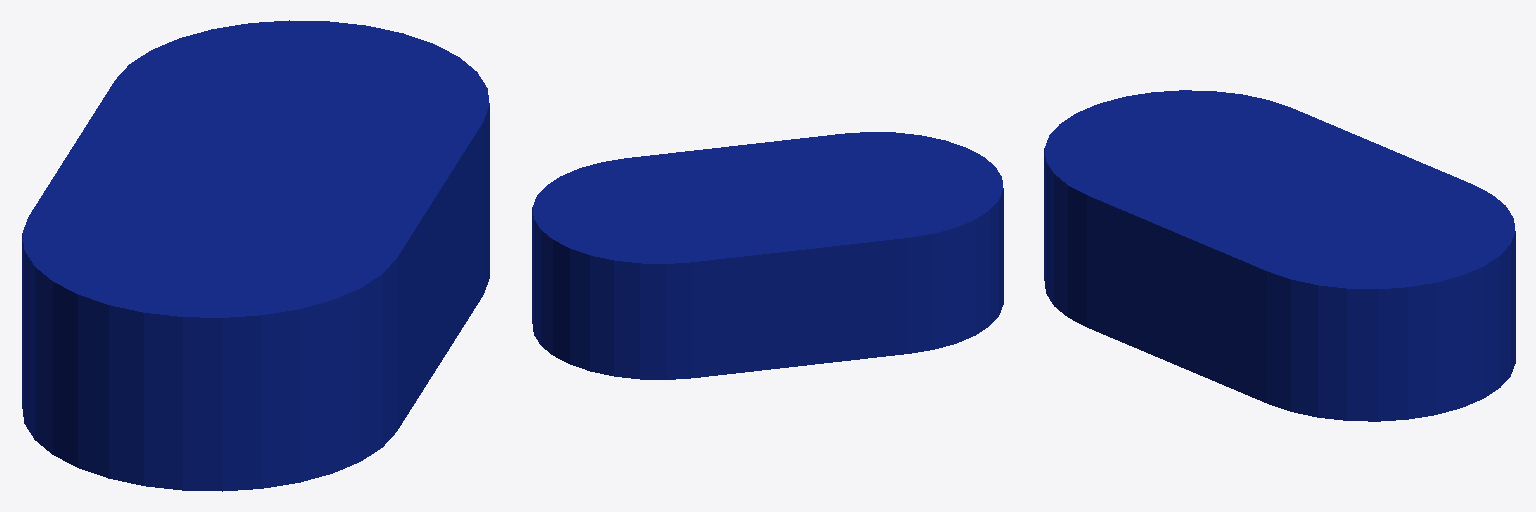
robot.urdf — block:
<robot name="block">
  <link name="block_base_link">

    <inertial>
      <origin rpy="0 0 0" xyz="0.01075 0.00146 0.015"/>
      <mass value="0.05"/>
      <inertia ixx="0.000113776" ixy="5.366e-05" ixz="0.0" iyy="0.000113776" iyz="0.0" izz="0.000200832"/>
    </inertial>
    <collision>
      
      <geometry>
        <mesh filename="25.STL" scale="1 1 1"/>
      </geometry>
    </collision>
    <visual>
 
      <geometry>
        <mesh filename="25.STL" scale="1 1 1"/>
      </geometry>
      <material name="tray_material">
        <color rgba="0.1 0.2 0.6 1"/>
      </material>
    </visual>
  </link>
</robot>

--- Render facts (derived) ---
Views: 3 orthographic renders of the robot side by side, from view 1: azimuth 30°, elevation 25°; view 2: azimuth 150°, elevation 25°; view 3: azimuth 270°, elevation 25°.
Robot: block — 1 links, 0 joints (none); root link block_base_link; default pose: every joint at zero.
Visible links, largest first — view 1: block_base_link; view 2: block_base_link; view 3: block_base_link.
Boxes of the visible links, x1=… form: block_base_link: x1=22, y1=20, x2=489, y2=491; block_base_link: x1=532, y1=132, x2=1003, y2=379; block_base_link: x1=1044, y1=90, x2=1515, y2=421.
Size in the robot's own frame: 0.0967 by 0.0967 by 0.03 metres.
1 mesh visuals loaded from 1 distinct referenced files (1 binary STL).